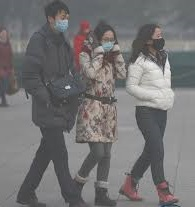person: (14, 1, 91, 207), (123, 22, 185, 206), (71, 22, 125, 206), (1, 26, 19, 107)
